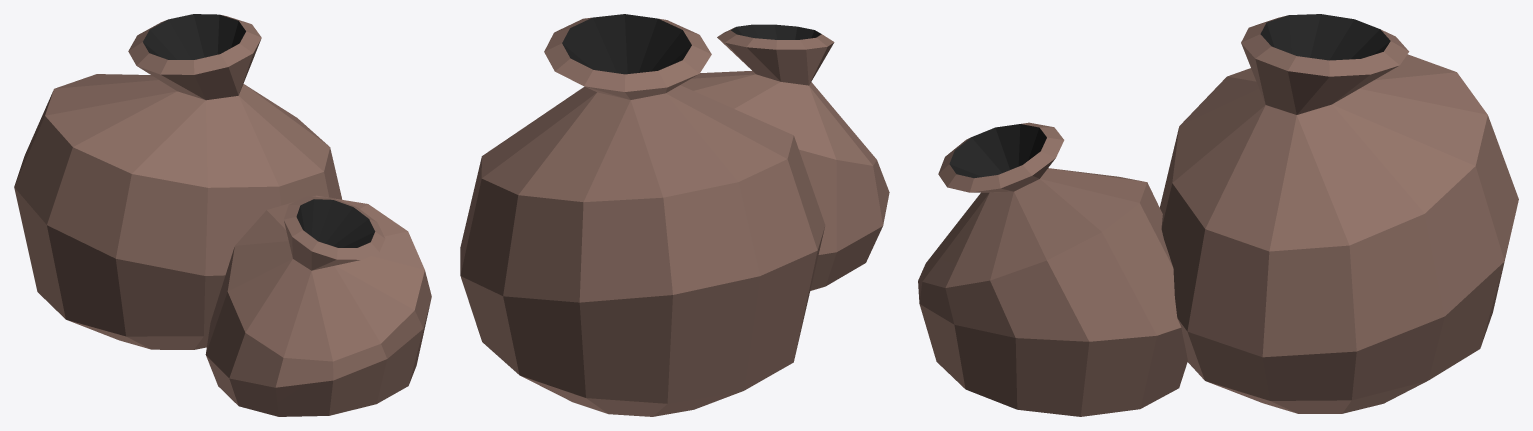
File: prop_029.fbx
3 renders of one model, left to right at view 1: azimuth 30°, elevation 25°; view 2: azimuth 150°, elevation 25°; view 3: azimuth 270°, elevation 25°, orthographic. The views are drawn at different scales.
Visible parts, largest first — view 1: prop.029; view 2: prop.029; view 3: prop.029.
Boxes of the visible parts, x1=… form: prop.029: x1=14, y1=14, x2=431, y2=416; prop.029: x1=460, y1=14, x2=889, y2=416; prop.029: x1=918, y1=14, x2=1518, y2=416.
Size of the model in its own units: 118 by 114 by 178.
Materials: 1 (1 with a texture image).
